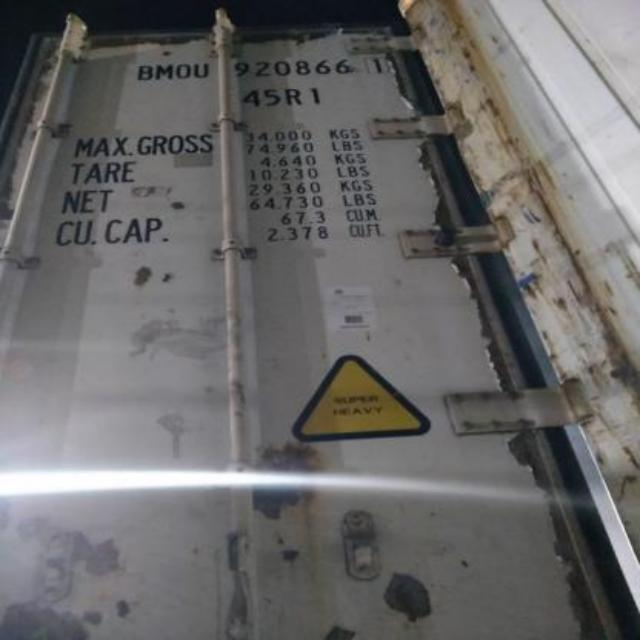0: (273, 55, 291, 79)
1: (364, 53, 392, 83)
2: (250, 56, 274, 80)
6: (312, 54, 333, 80), (334, 52, 350, 84)
8: (292, 53, 312, 79)
9: (234, 57, 250, 81)
B: (134, 62, 152, 82)
M: (153, 62, 174, 86)
O: (174, 56, 190, 86)
U: (192, 57, 210, 83)
